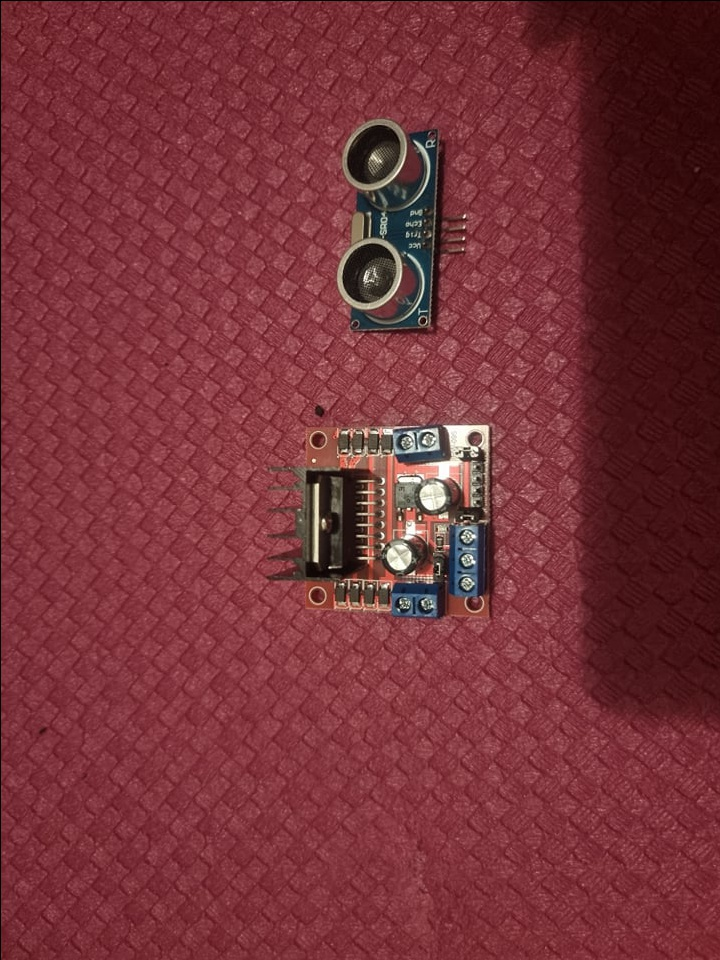MOTOR: (273, 414, 492, 621)
SENSOR: (339, 110, 439, 334)
